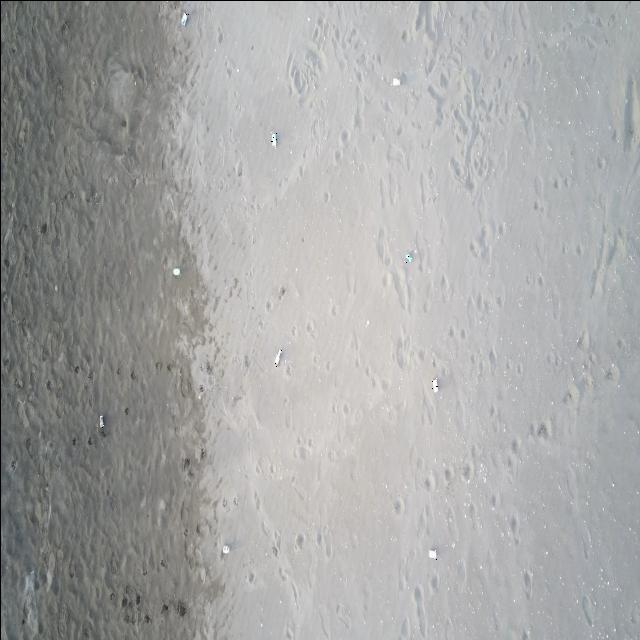Garbage: (273, 348, 281, 366), (98, 415, 104, 435), (180, 13, 187, 26), (427, 548, 435, 559), (404, 252, 412, 263), (271, 131, 276, 147), (392, 76, 400, 84), (221, 544, 228, 553), (172, 267, 179, 275), (432, 377, 435, 392)
